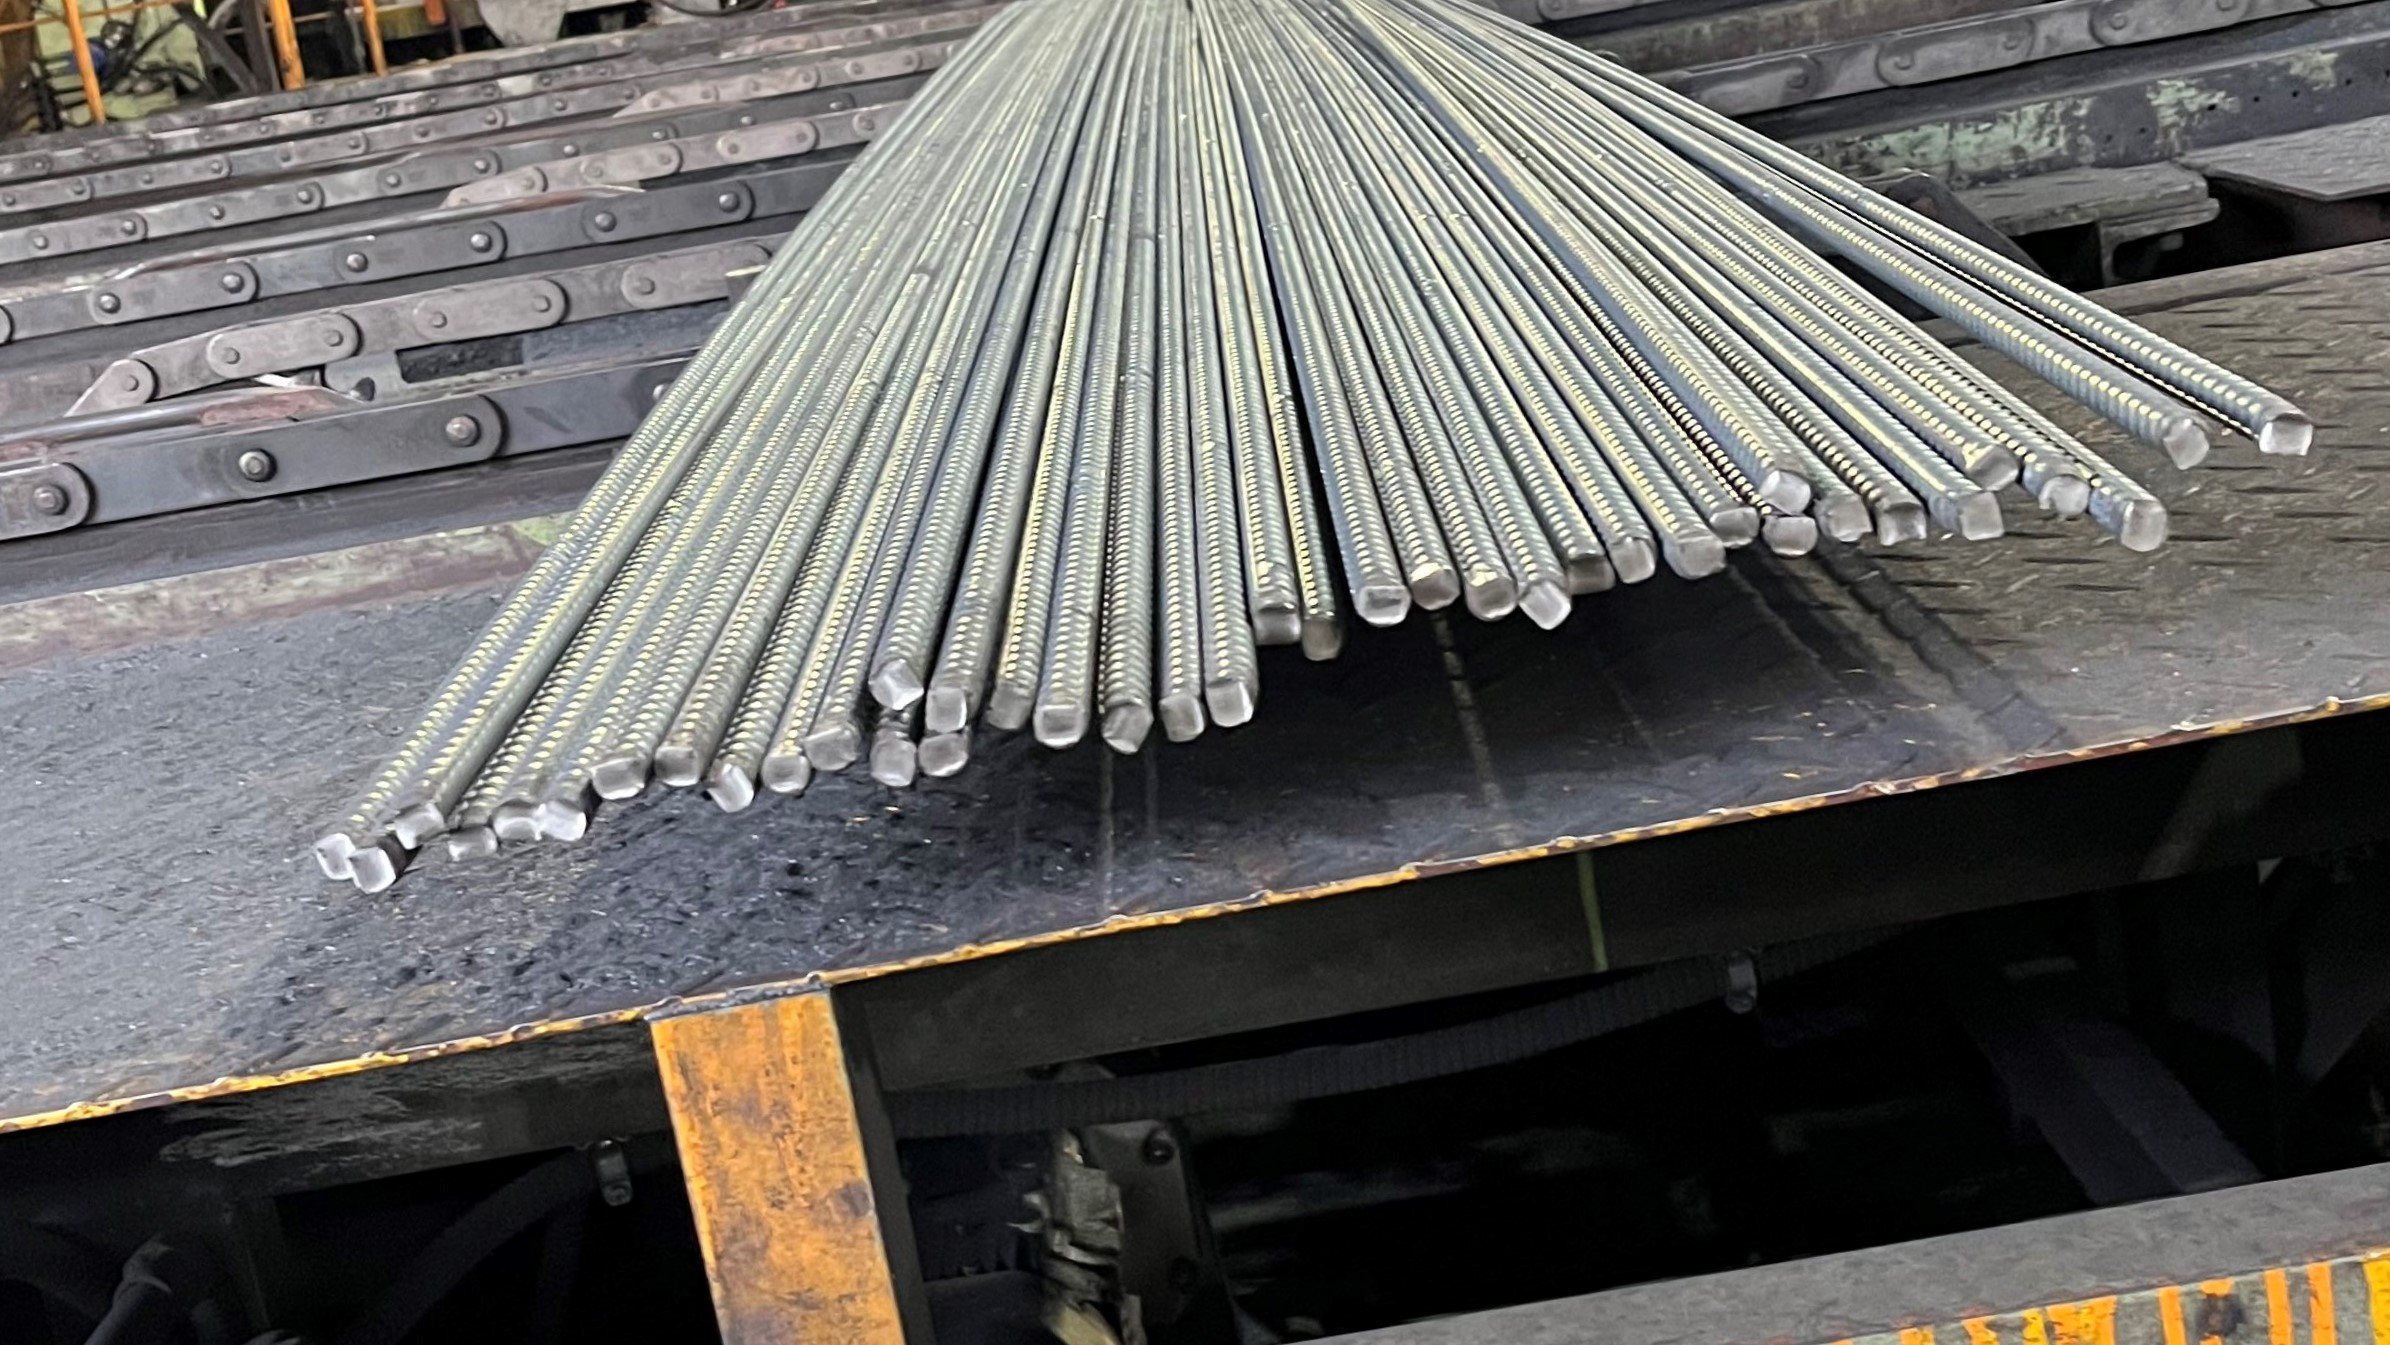rod: (863, 657, 924, 714), (2160, 415, 2216, 475), (2118, 496, 2172, 555), (1517, 576, 1574, 631), (1098, 700, 1152, 755), (2255, 407, 2316, 457), (1202, 677, 1256, 731), (391, 801, 446, 852), (919, 685, 975, 736), (985, 678, 1036, 734), (1966, 447, 2022, 498), (1032, 701, 1092, 749), (2034, 473, 2095, 519), (704, 762, 758, 813), (1157, 691, 1208, 746), (867, 736, 918, 788), (1563, 549, 1615, 599), (1957, 491, 2008, 544), (345, 846, 399, 895), (492, 796, 547, 846), (1249, 601, 1303, 650), (1353, 585, 1412, 629), (1822, 494, 1873, 545), (804, 728, 858, 775), (1674, 534, 1728, 581), (1875, 501, 1929, 549), (533, 796, 589, 842), (1761, 514, 1819, 558), (1464, 575, 1517, 622), (1709, 506, 1761, 553), (918, 731, 972, 777), (1300, 611, 1344, 665), (758, 754, 813, 796), (1758, 468, 1812, 511), (591, 759, 647, 800), (1412, 565, 1459, 611), (655, 747, 704, 792), (314, 833, 356, 884), (1612, 535, 1655, 585), (443, 824, 496, 864)
